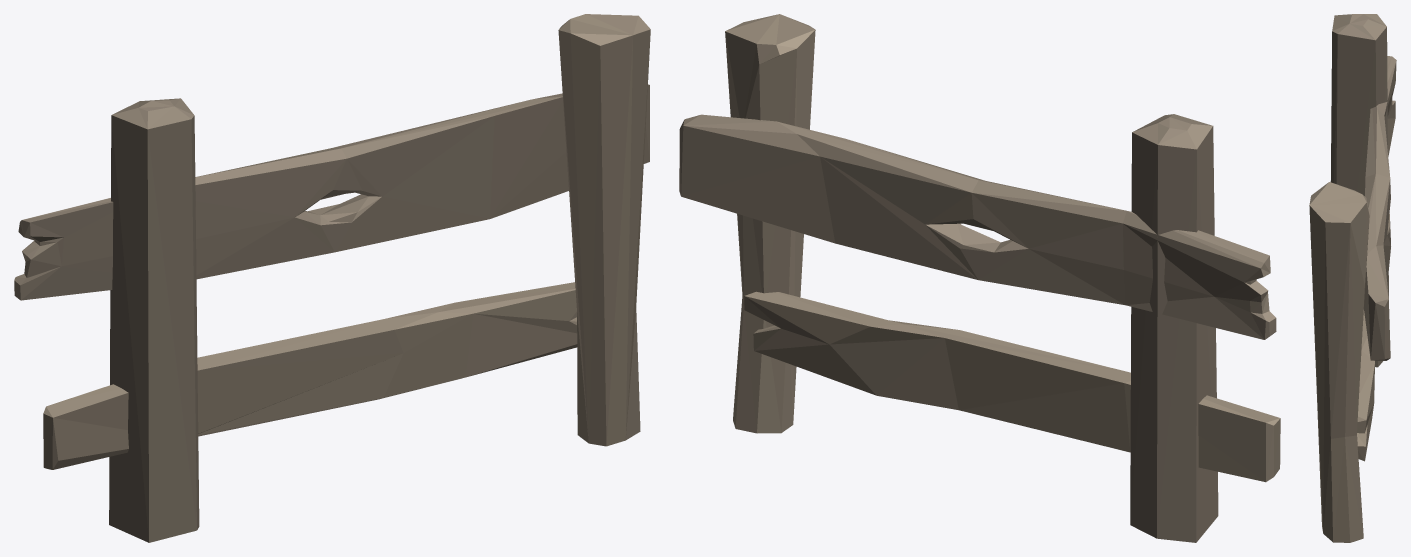
The model's file is fence_wood_03b.glb.
3 renders of one model, left to right at view 1: azimuth 30°, elevation 25°; view 2: azimuth 150°, elevation 25°; view 3: azimuth 270°, elevation 25°, orthographic. The views are drawn at different scales.
Visible parts, largest first — view 1: estructura.cerca.env_fence_wood_03b; view 2: estructura.cerca.env_fence_wood_03b; view 3: estructura.cerca.env_fence_wood_03b.
Part boxes in pixels (x1,y1,x2,y2): estructura.cerca.env_fence_wood_03b: (14, 14, 650, 542); estructura.cerca.env_fence_wood_03b: (679, 14, 1280, 542); estructura.cerca.env_fence_wood_03b: (1309, 14, 1396, 542).
Size of the model in its own units: 2.44 by 1.6 by 0.3697.
